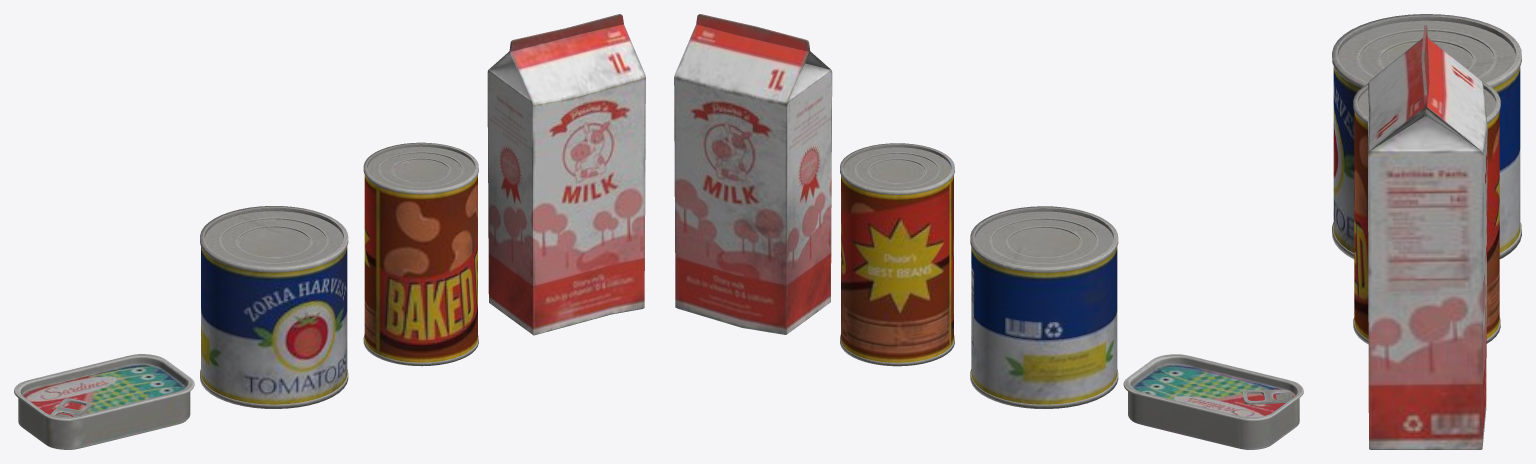
The model's file is long_life_food.gltf.
The picture shows the model from 3 angles, left to right: view 1: azimuth 30°, elevation 25°; view 2: azimuth 150°, elevation 25°; view 3: azimuth 270°, elevation 25°; orthographic projection. The views are drawn at different scales.
Parts seen in each view (by area): view 1: long_life_food_milk, long_life_food_tomatoes, long_life_food_beans, long_life_food_sardines; view 2: long_life_food_milk, long_life_food_tomatoes, long_life_food_beans, long_life_food_sardines; view 3: long_life_food_milk, long_life_food_tomatoes, long_life_food_beans.
Boxes of the visible parts, left/top/right/bottom form: long_life_food_milk: left=487, top=14, right=645, bottom=335; long_life_food_tomatoes: left=200, top=206, right=348, bottom=408; long_life_food_beans: left=363, top=142, right=478, bottom=366; long_life_food_sardines: left=14, top=354, right=194, bottom=449; long_life_food_milk: left=674, top=14, right=832, bottom=334; long_life_food_tomatoes: left=970, top=206, right=1118, bottom=408; long_life_food_beans: left=840, top=143, right=954, bottom=366; long_life_food_sardines: left=1123, top=354, right=1303, bottom=449; long_life_food_milk: left=1368, top=25, right=1487, bottom=449; long_life_food_tomatoes: left=1332, top=14, right=1521, bottom=259; long_life_food_beans: left=1353, top=81, right=1500, bottom=344.
Bounding box in the file's own units: 0.5238 × 0.2376 × 0.1136.
Materials: 1 (1 with a texture image).
